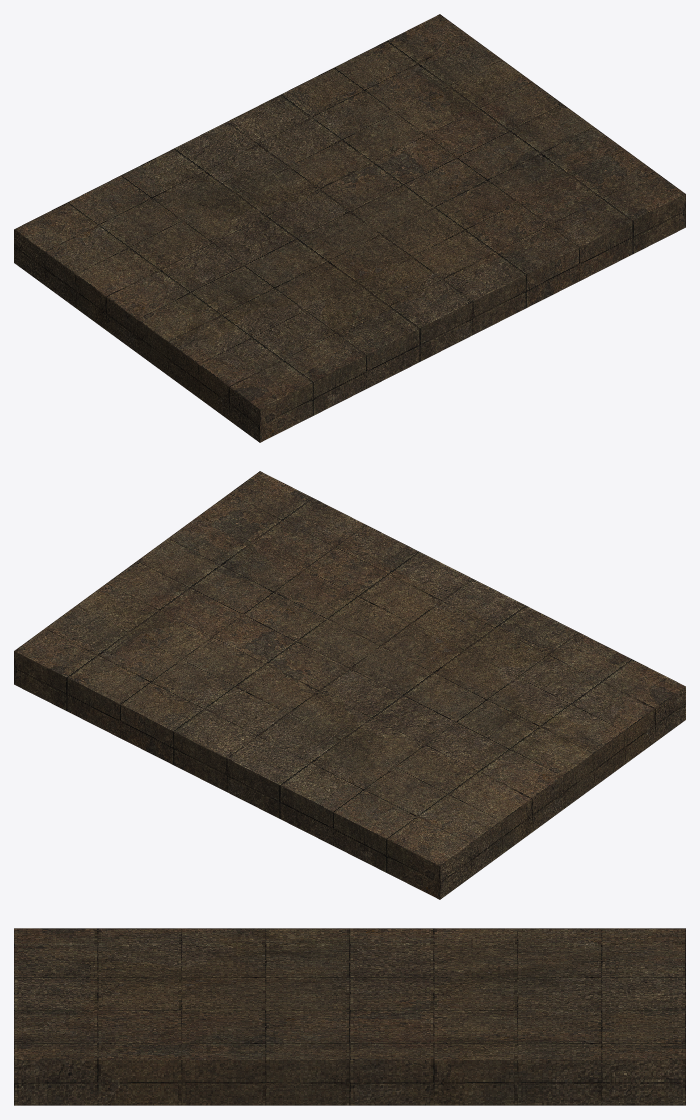
Rendered from floor_ceiling_hs_3_slope.glb.
3 renders of one model, top to bottom at view 1: azimuth 30°, elevation 25°; view 2: azimuth 150°, elevation 25°; view 3: azimuth 270°, elevation 25°, orthographic. The views are drawn at different scales.
Visible parts, largest first — view 1: floor_ceiling_hs_3_slope; view 2: floor_ceiling_hs_3_slope; view 3: floor_ceiling_hs_3_slope.
Boxes of the visible parts, x1=… form: floor_ceiling_hs_3_slope: x1=14, y1=14, x2=685, y2=442; floor_ceiling_hs_3_slope: x1=14, y1=471, x2=685, y2=899; floor_ceiling_hs_3_slope: x1=14, y1=928, x2=685, y2=1105.
Size of the model in its own units: 4 by 1.3 by 4.
1 material, 1 textured.
